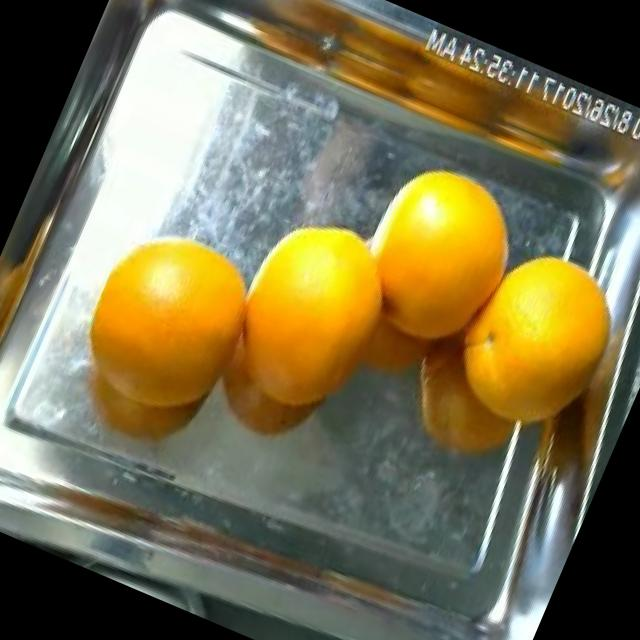Fruit: (341, 135, 546, 337), (222, 182, 398, 370)
